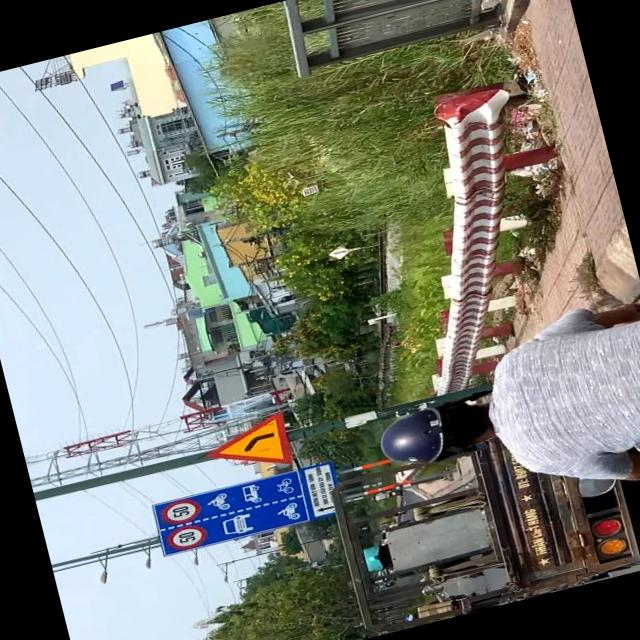P-127c: (152, 466, 312, 554)
W-201a: (200, 408, 296, 482)
